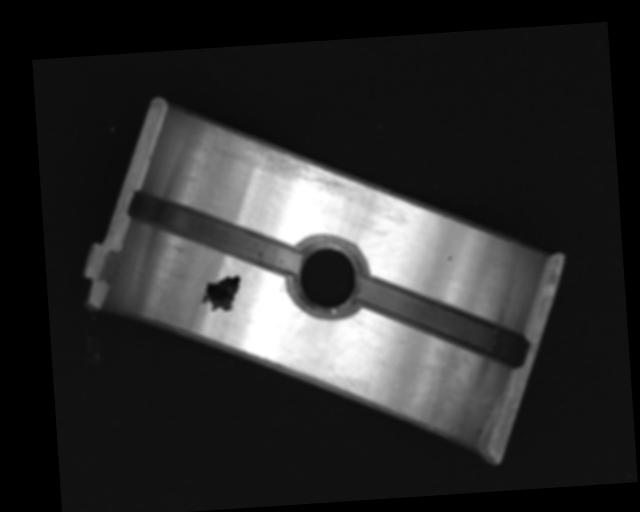blot: (198, 272, 244, 313)
bruise: (443, 253, 454, 261)
gap: (358, 266, 528, 375), (127, 182, 301, 282)
hole: (286, 235, 368, 321)
scratch: (211, 115, 367, 202)
